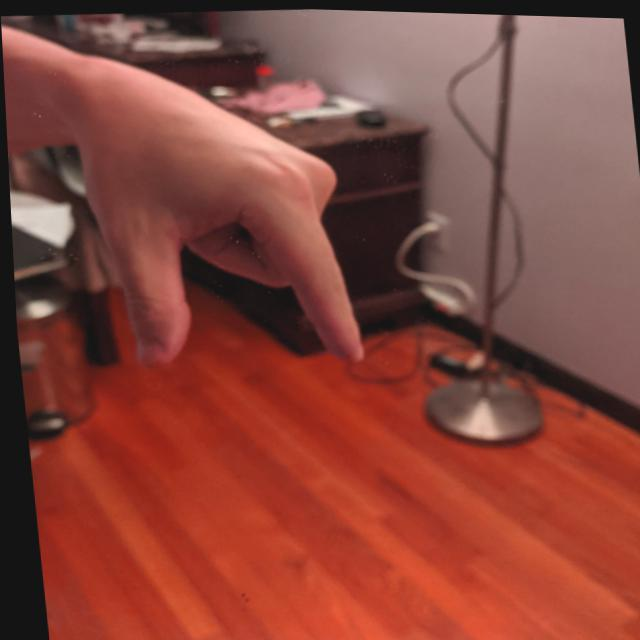Q: (60, 45, 372, 384)
